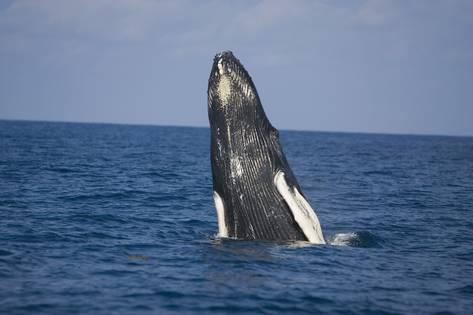humpback: (206, 51, 329, 245)
